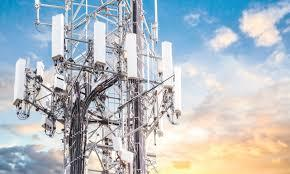antenna: (48, 13, 68, 62), (172, 61, 184, 135), (124, 27, 140, 80), (92, 21, 107, 67), (12, 57, 26, 104), (161, 41, 173, 85)
